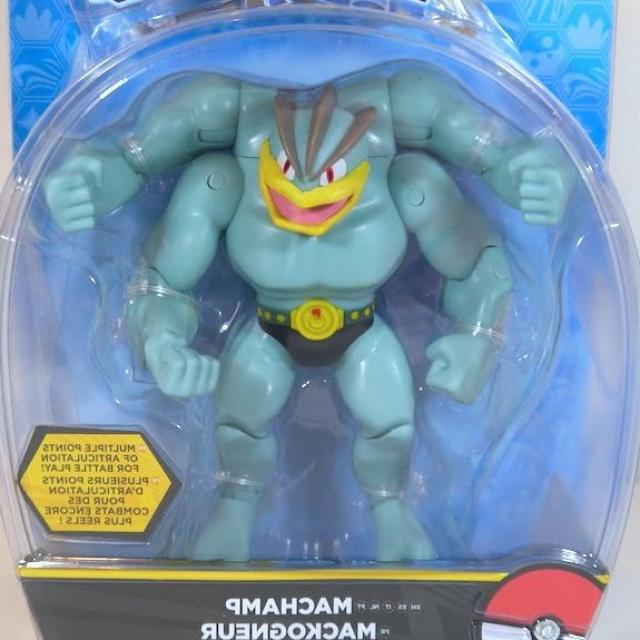Machamp: (117, 56, 500, 566)
